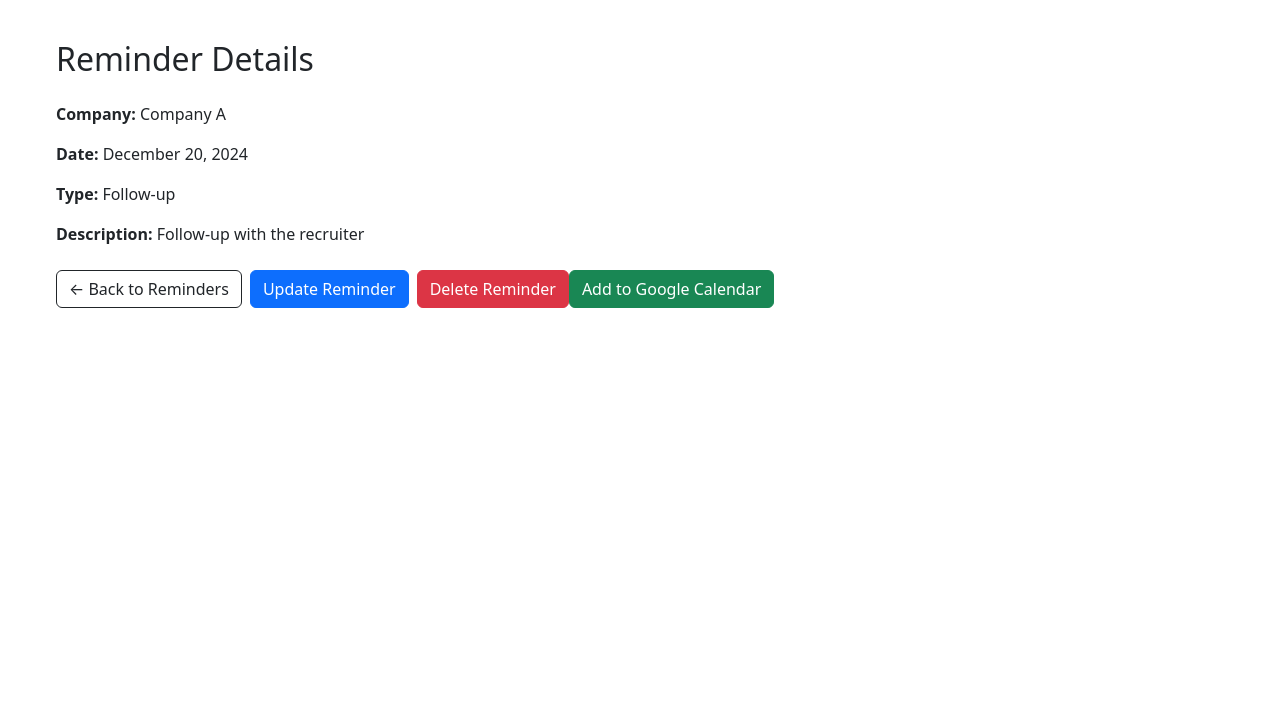
Test: ReminderSummary › shows the delete confirmation modal when 'Delete Reminder' is clicked
Click the button "Delete Reminder". click: (493, 289)
box: top-left (417, 270), bottom-right (569, 308)
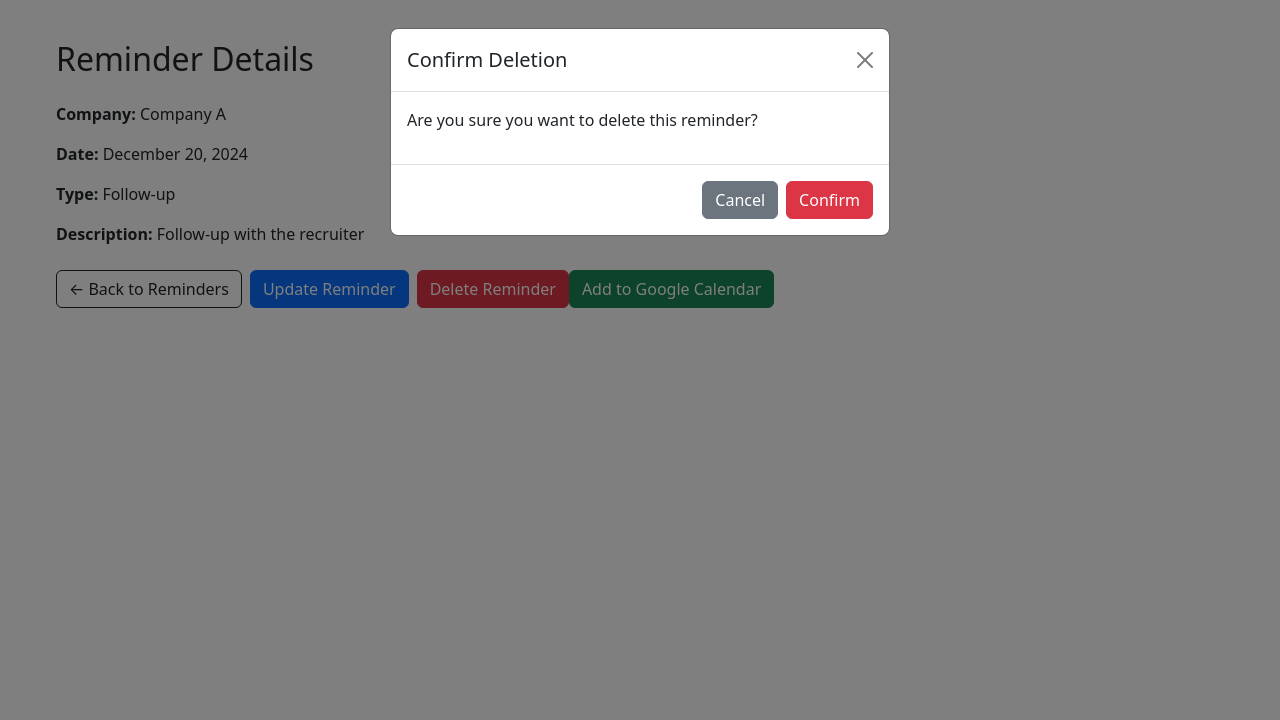
Now the heading "Confirm Deletion" is shown, box top-left (407, 45), bottom-right (568, 75)
Now the text "Are you sure you want to delete this reminder?" is shown, box top-left (407, 109), bottom-right (758, 131)
